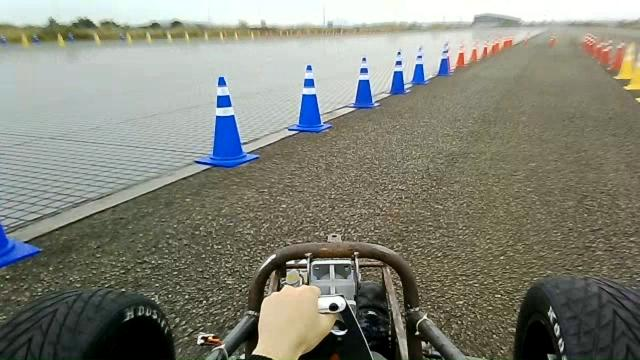blue cone: (194, 75, 260, 168), (287, 64, 332, 132), (348, 56, 380, 109), (386, 50, 411, 94), (410, 45, 429, 85)
